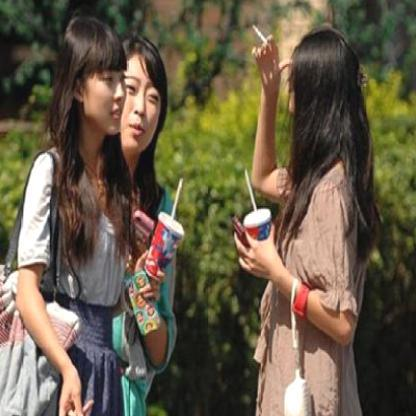cigarette: (251, 20, 267, 44)
person: (19, 15, 135, 415), (268, 30, 368, 415), (121, 32, 170, 176)
